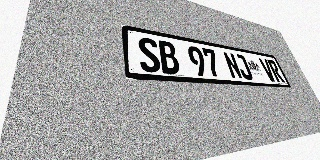7: (201, 48, 223, 78)
9: (186, 45, 209, 77)
B: (157, 40, 181, 75)
J: (233, 53, 254, 80)
N: (222, 51, 243, 79)
R: (267, 59, 285, 82)
S: (137, 36, 162, 73)
V: (258, 58, 277, 82)
